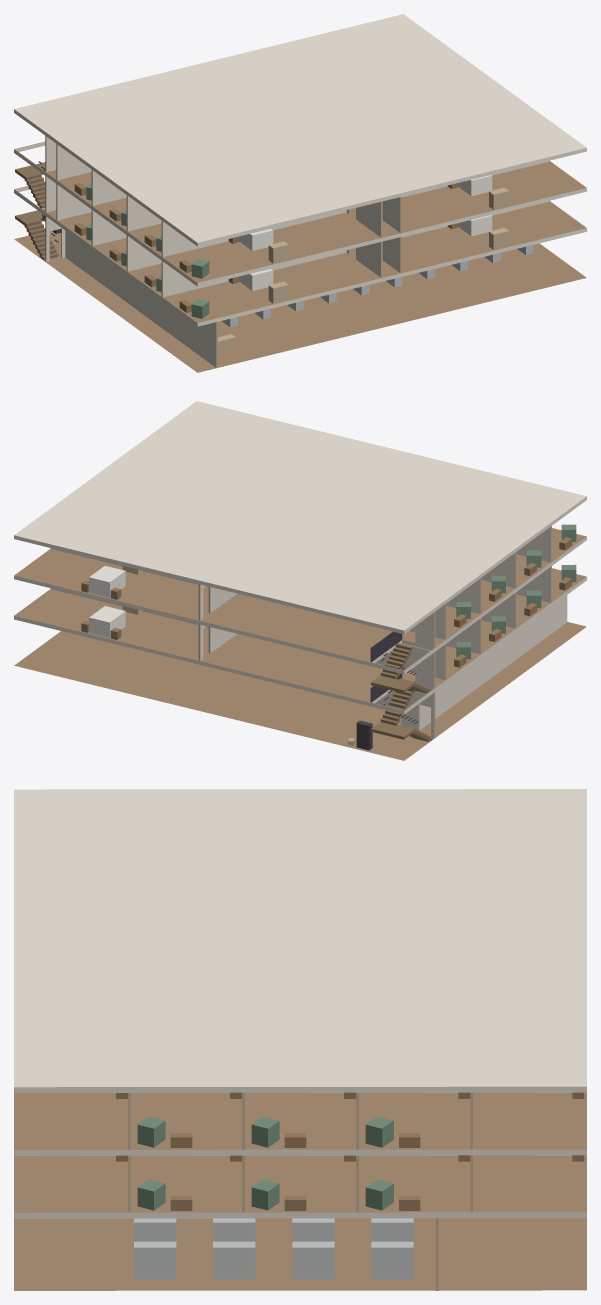
Rendered from interior.glb.
3 views of the same model, one above another, from view 1: azimuth 30°, elevation 25°; view 2: azimuth 150°, elevation 25°; view 3: azimuth 270°, elevation 25° (orthographic). The views are drawn at different scales.
Visible parts, largest first — view 1: slabs, partitions, coarse-s2, coarse-s1, stair, coarse-s0; view 2: slabs, partitions, stair, coarse-s2, coarse-s1, coarse-s0; view 3: slabs, coarse-s0, coarse-s1, coarse-s2, partitions.
Part boxes in pixels (x1=…): slabs: x1=14, y1=14, x2=586, y2=372; partitions: x1=45, y1=136, x2=549, y2=367; coarse-s2: x1=74, y1=175, x2=508, y2=278; coarse-s1: x1=74, y1=215, x2=508, y2=318; stair: x1=15, y1=161, x2=58, y2=259; coarse-s0: x1=52, y1=229, x2=533, y2=354; slabs: x1=14, y1=401, x2=586, y2=760; partitions: x1=50, y1=526, x2=567, y2=738; stair: x1=370, y1=631, x2=432, y2=741; coarse-s2: x1=81, y1=524, x2=576, y2=627; coarse-s1: x1=81, y1=564, x2=576, y2=667; coarse-s0: x1=348, y1=720, x2=372, y2=750; slabs: x1=14, y1=789, x2=586, y2=1290; coarse-s0: x1=134, y1=1218, x2=413, y2=1279; coarse-s1: x1=78, y1=1155, x2=584, y2=1210; coarse-s2: x1=116, y1=1092, x2=584, y2=1147; partitions: x1=128, y1=1092, x2=472, y2=1290.
Bounding box in the file's own units: 28.5 × 9.1 × 23.15.
